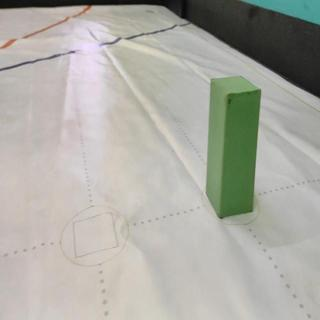greenbox: (204, 73, 263, 220)
